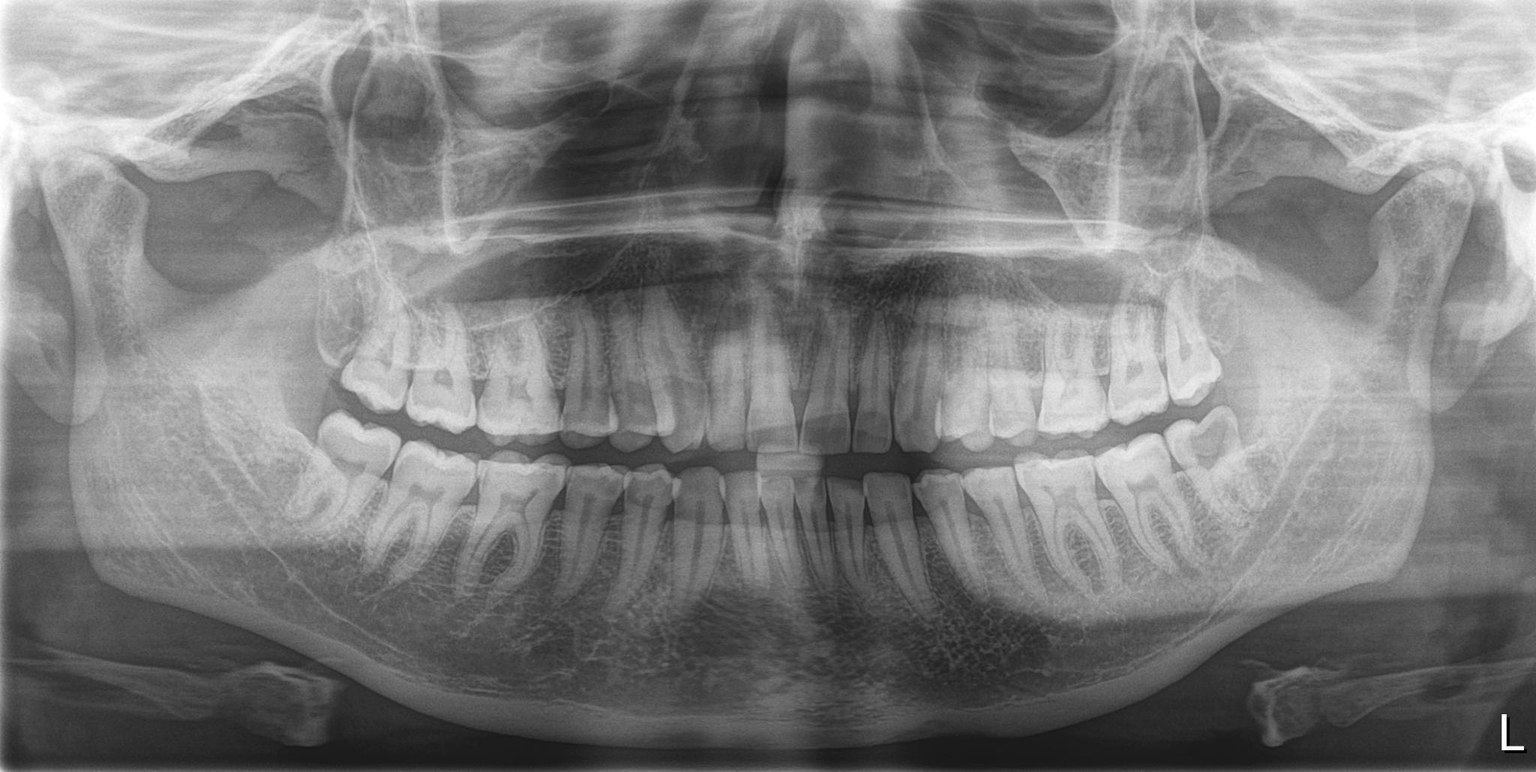Dental Caries: (556, 470, 674, 516), (1181, 420, 1234, 467)
Periapical Abnormality: (283, 424, 388, 558)
